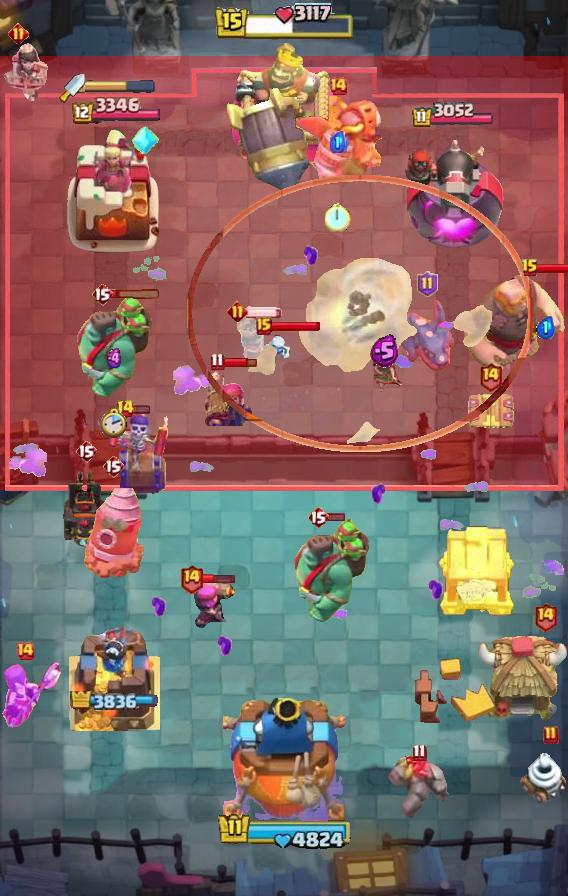archer-evolution: (61, 468, 111, 550)
balloon: (460, 273, 568, 373)
bar: (64, 124, 164, 256)
bomb: (437, 523, 517, 617)
bomber-evolution: (235, 310, 271, 372)
cannon: (363, 351, 405, 397)
clock: (213, 3, 355, 43), (214, 812, 354, 852)
electro-spirit: (369, 334, 398, 368), (537, 316, 556, 339), (104, 348, 123, 369), (330, 131, 346, 153)
elixir: (100, 407, 127, 439), (325, 202, 351, 232)
emote: (110, 288, 162, 300), (269, 320, 321, 332), (245, 306, 283, 318), (222, 356, 257, 368), (201, 572, 236, 583), (536, 262, 568, 274), (132, 404, 152, 415), (326, 512, 345, 522)
goblin-brawler: (465, 391, 515, 431)
goblin-drill: (518, 750, 568, 806)
graveyard: (398, 299, 456, 373)
heal-spirit: (259, 327, 293, 371)
king-tower: (223, 698, 345, 826), (230, 43, 338, 181)
king-tower-bar: (85, 80, 155, 94)
lava-hound: (72, 295, 156, 401), (289, 519, 373, 625)
magic-archer: (80, 483, 146, 581)
mega-minion: (201, 364, 257, 426)
night-witch: (291, 96, 385, 188)
pad_2: (131, 123, 159, 157)
prince: (474, 634, 568, 724)
queen-tower: (68, 627, 160, 731)
rascal-boy: (0, 659, 62, 731)
royal-ghost: (187, 175, 533, 452)
selected: (68, 98, 159, 126), (411, 102, 495, 129), (69, 691, 158, 709)
skeleton-dragon: (0, 43, 50, 101)
skeleton-king-bar: (107, 405, 169, 497)
text: (477, 361, 502, 392), (179, 562, 204, 593), (534, 601, 559, 631), (417, 271, 438, 297), (91, 282, 113, 306), (75, 439, 97, 463), (102, 454, 124, 478), (307, 505, 329, 529), (7, 23, 28, 44), (227, 301, 248, 322), (328, 76, 348, 96), (116, 399, 136, 419), (15, 641, 35, 661), (521, 258, 539, 278), (543, 725, 559, 745), (256, 317, 272, 335), (413, 743, 428, 762), (211, 353, 225, 371)
tombstone: (181, 576, 239, 630)
tower-bar: (401, 132, 508, 256)
valkyrie-evolution: (385, 754, 453, 824)
x-bow: (226, 86, 310, 194)
